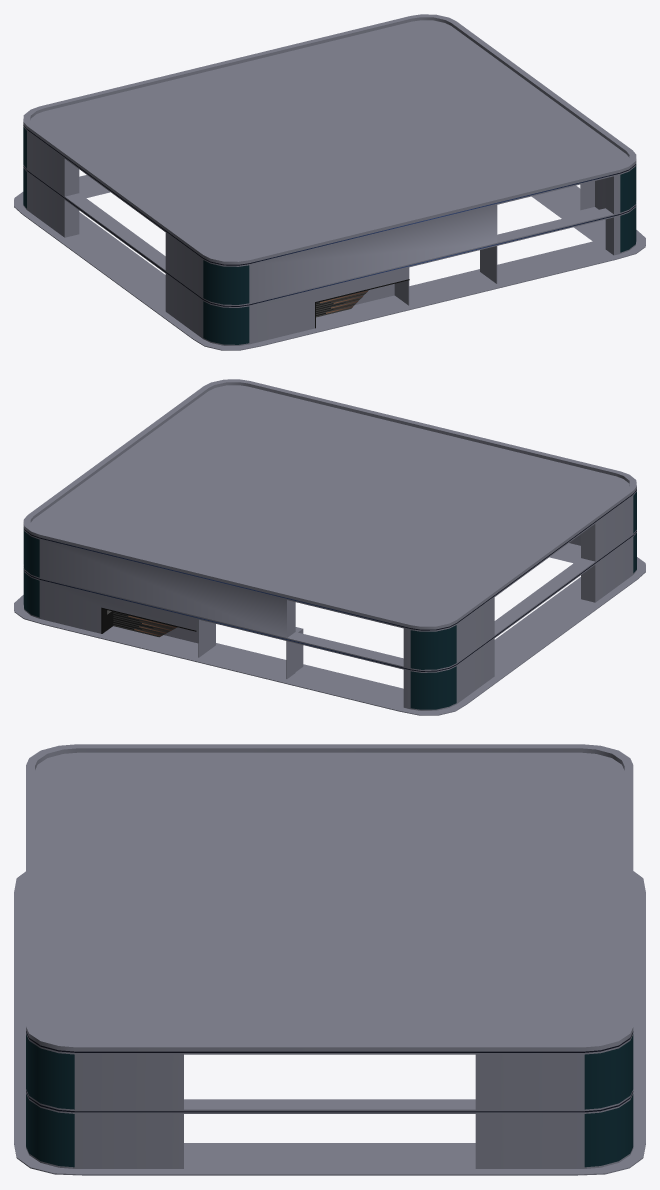
Rendered from Building_SK_002_1st_L1.fbx.
3 views of the same model, one above another, from view 1: azimuth 30°, elevation 25°; view 2: azimuth 150°, elevation 25°; view 3: azimuth 270°, elevation 25° (orthographic). The views are drawn at different scales.
Visible parts, largest first — view 1: Building_SK_002_1st_L1; view 2: Building_SK_002_1st_L1; view 3: Building_SK_002_1st_L1.
Part boxes in pixels (box(x1,y1,x2,y2)): Building_SK_002_1st_L1: box(14, 14, 645, 350); Building_SK_002_1st_L1: box(14, 379, 645, 715); Building_SK_002_1st_L1: box(14, 744, 645, 1175).
Size of the model in its own units: 61.06 by 11.23 by 52.04.
